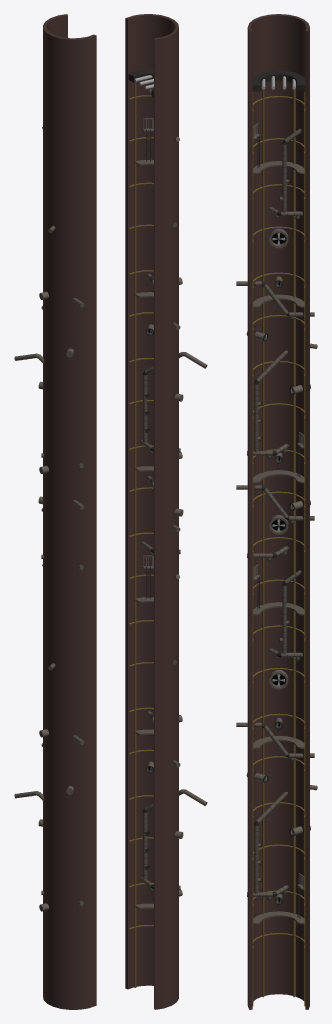
The model's file is Background_v07_Combined.fbx.
3 views of the same model, side by side, from view 1: azimuth 30°, elevation 25°; view 2: azimuth 210°, elevation 25°; view 3: azimuth 270°, elevation 25° (orthographic).
Visible parts, largest first — view 1: Background4; view 2: Background4; view 3: Background4.
Part boxes in pixels (box(x1,y1,x2,y2)): Background4: box(14, 14, 96, 1009); Background4: box(125, 14, 207, 1009); Background4: box(236, 14, 317, 1009).
Bounding box in the file's own units: 15.74 × 296 × 22.26.
